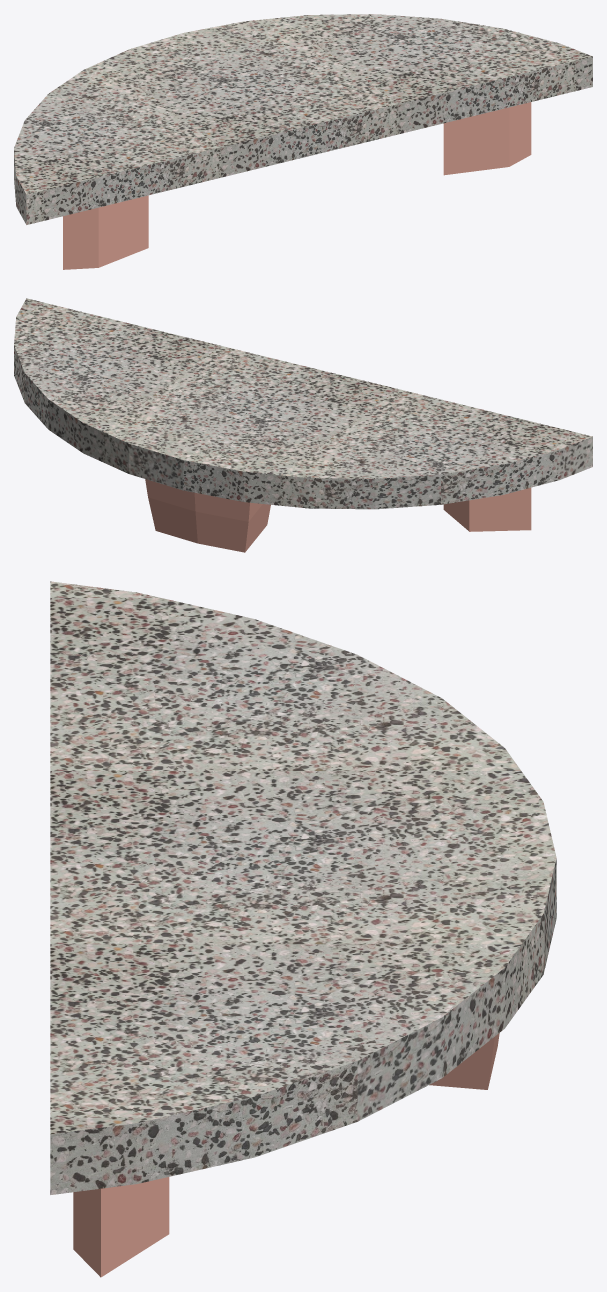
The model's file is mesaredondavfinal.fbx.
3 renders of one model, top to bottom at view 1: azimuth 30°, elevation 25°; view 2: azimuth 150°, elevation 25°; view 3: azimuth 270°, elevation 25°, orthographic. The views are drawn at different scales.
Parts seen in each view (by area): view 1: Cylinder; view 2: Cylinder; view 3: Cylinder.
Part boxes in pixels (x1=…): Cylinder: x1=14, y1=14, x2=592, y2=269; Cylinder: x1=14, y1=298, x2=592, y2=552; Cylinder: x1=50, y1=581, x2=556, y2=1277.
Size of the model in its own units: 250 by 40.65 by 96.71.
